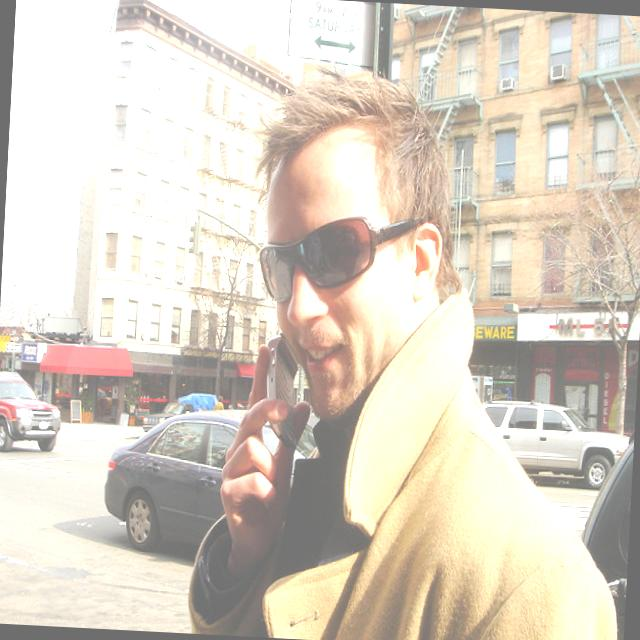Vehicle: (103, 404, 245, 558), (482, 399, 635, 492), (478, 400, 632, 489), (577, 421, 635, 640), (0, 369, 63, 453), (142, 393, 218, 437), (142, 400, 194, 436)
